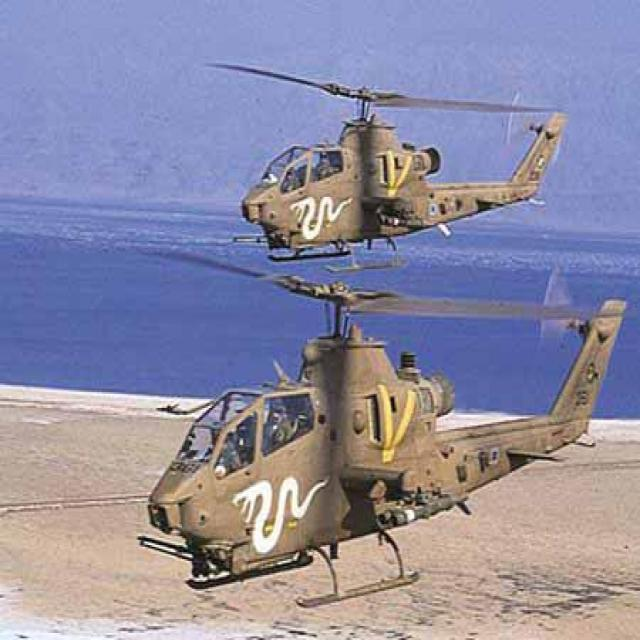MIL_HELO: (108, 231, 640, 607), (188, 46, 592, 282)
